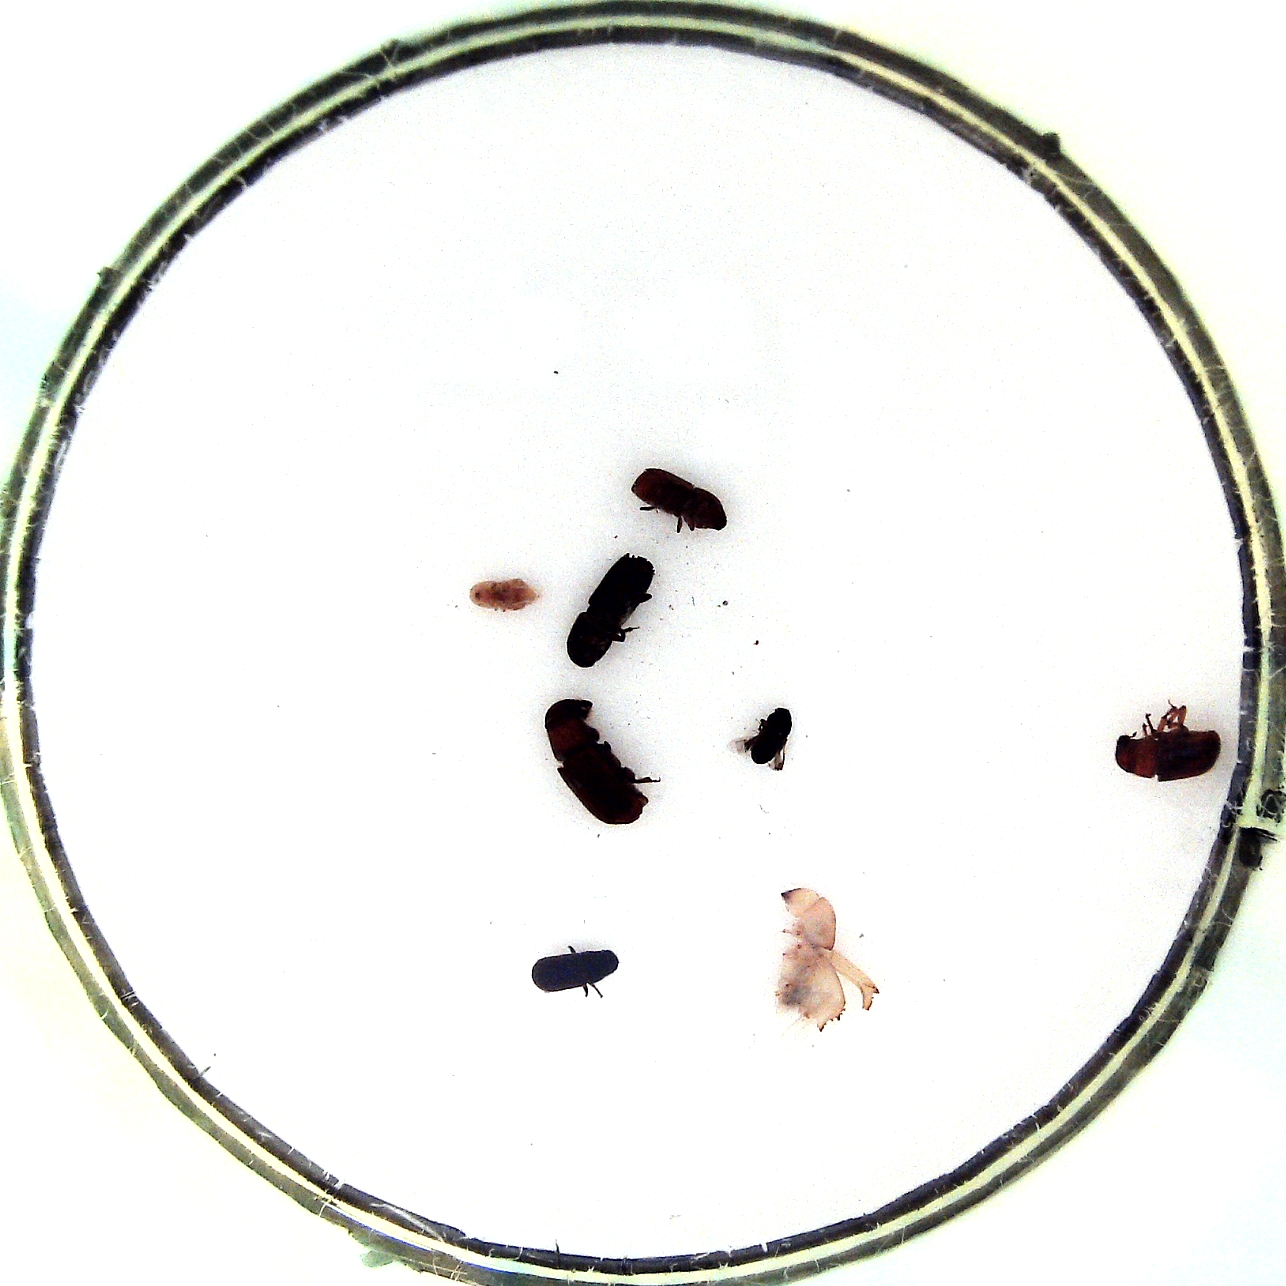Boerner: (763, 889, 879, 1027), (563, 553, 656, 671)
Leconte: (545, 692, 658, 826), (1111, 702, 1225, 785)
Linnaeus: (629, 460, 735, 538)
acuminatus: (465, 571, 541, 619)
armandi: (524, 936, 622, 997)
coleoptera: (733, 707, 794, 773)
